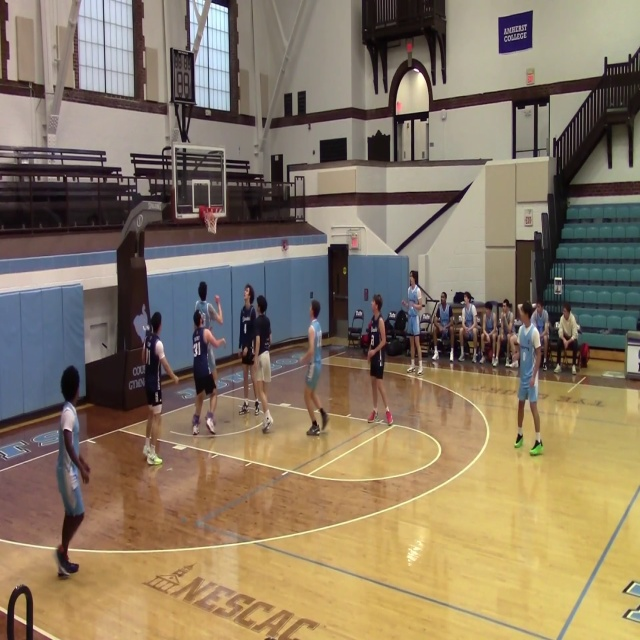Basketball: (386, 340, 402, 356), (241, 349, 254, 364), (214, 294, 220, 302)
